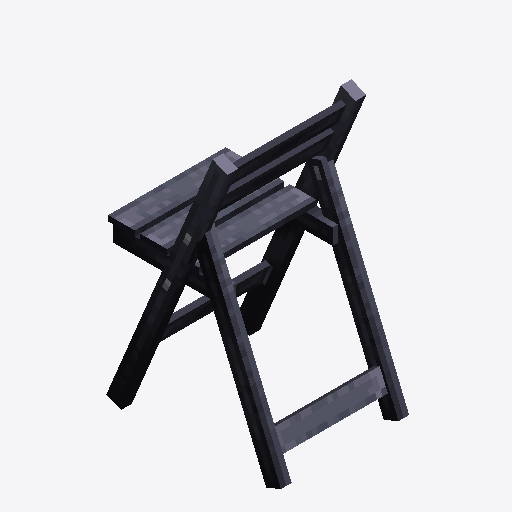
A Minecraft block model of 13 cuboids, rendered isometrically (azimuth 45°, elevation 35.3°) with the resource pack's own textures.
Parts seen in each view (by area): back_leg (×2), front_leg (×2), seat_frame (×3), front_top_crosspiece (×2), back_bottom_crosspiece, seat_side_rail (×2), front_bottom_crosspiece.
Boxes of the visible parts, <box> form: back_leg (×2): <box>196,156,408,488</box>; front_leg (×2): <box>106,79,365,409</box>; seat_frame (×3): <box>108,147,316,272</box>; front_top_crosspiece (×2): <box>219,100,345,211</box>; back_bottom_crosspiece: <box>274,366,387,453</box>; seat_side_rail (×2): <box>113,206,337,297</box>; front_bottom_crosspiece: <box>160,260,269,341</box>.
Bounding box in the file's own units: 13 × 24.59 × 16.67.